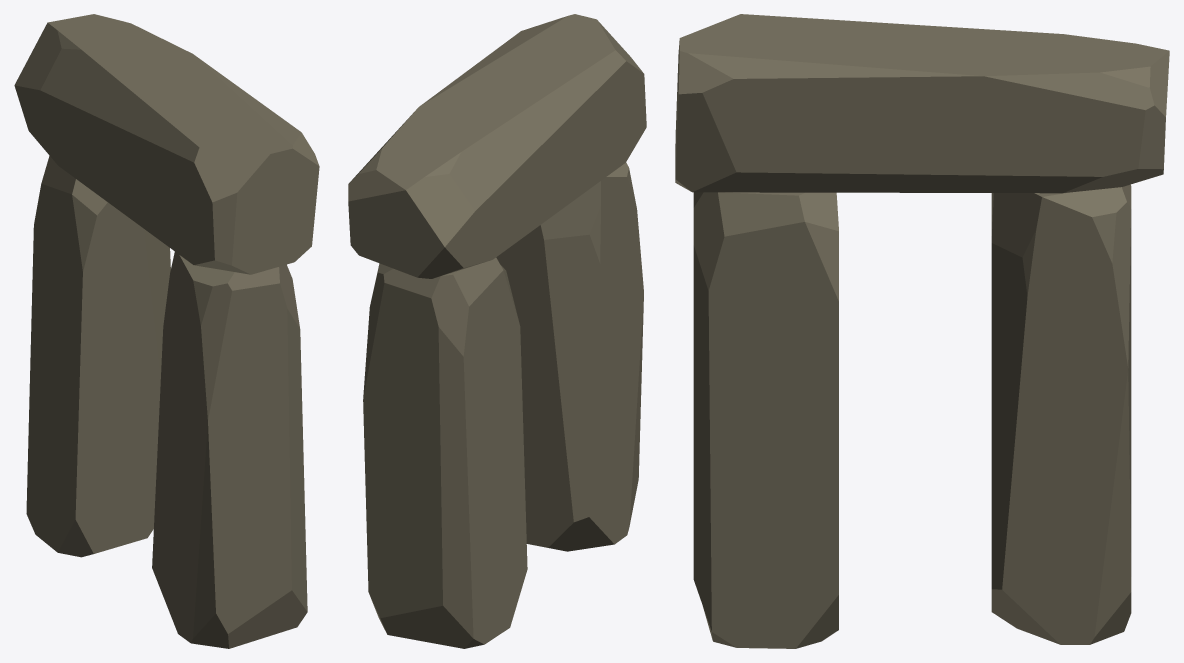
File: henge.fbx
The picture shows the model from 3 angles, left to right: view 1: azimuth 30°, elevation 25°; view 2: azimuth 150°, elevation 25°; view 3: azimuth 270°, elevation 25°; orthographic projection. The views are drawn at different scales.
Visible parts, largest first — view 1: Cube.001, Cube.003, Cube.002; view 2: Cube.002, Cube.003, Cube.001; view 3: Cube.003, Cube.001, Cube.002.
Boxes of the visible parts, box(x1,y1,x2,y2) form: Cube.001: box(152, 252, 307, 648); Cube.003: box(14, 14, 319, 274); Cube.002: box(26, 156, 170, 557); Cube.002: box(363, 257, 527, 648); Cube.003: box(348, 14, 646, 278); Cube.001: box(496, 162, 643, 551); Cube.003: box(675, 14, 1169, 193); Cube.001: box(693, 192, 838, 648); Cube.002: box(991, 184, 1131, 644).
Bounding box in the file's own units: 62.99 × 255 × 197.
